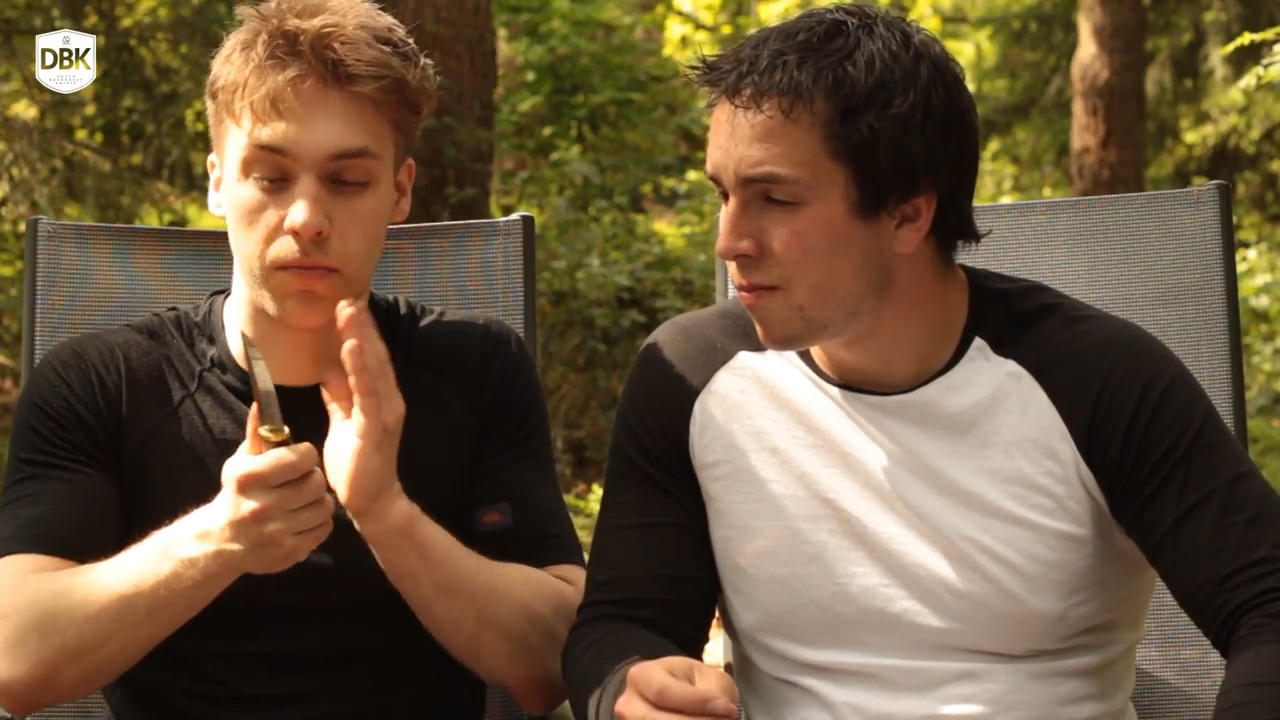knife: (202, 306, 344, 527)
